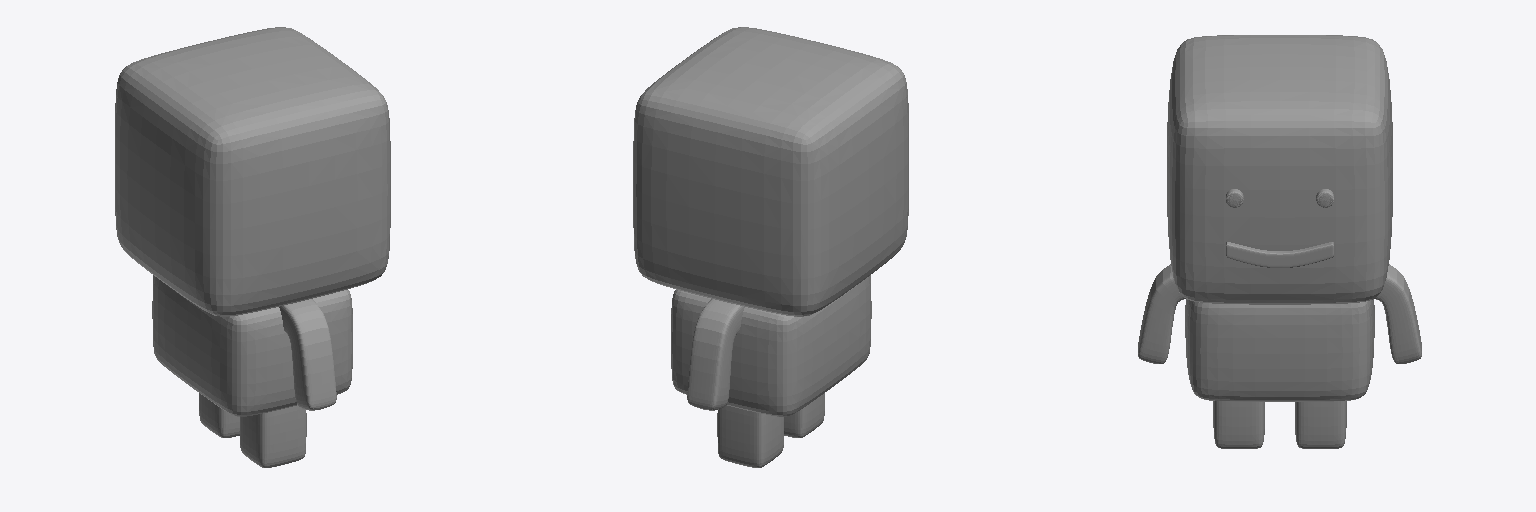
File: Charakter2.obj
3 renders of one model, left to right at view 1: azimuth 30°, elevation 25°; view 2: azimuth 150°, elevation 25°; view 3: azimuth 270°, elevation 25°, orthographic.
Visible parts, largest first — view 1: Charakter_Cube; view 2: Charakter_Cube; view 3: Charakter_Cube.
Part boxes in pixels (bbox=[...]): Charakter_Cube: bbox=[115, 27, 390, 467]; Charakter_Cube: bbox=[633, 27, 908, 467]; Charakter_Cube: bbox=[1138, 35, 1421, 448].
Bounding box in the file's own units: 2.28 × 4.02 × 2.76.